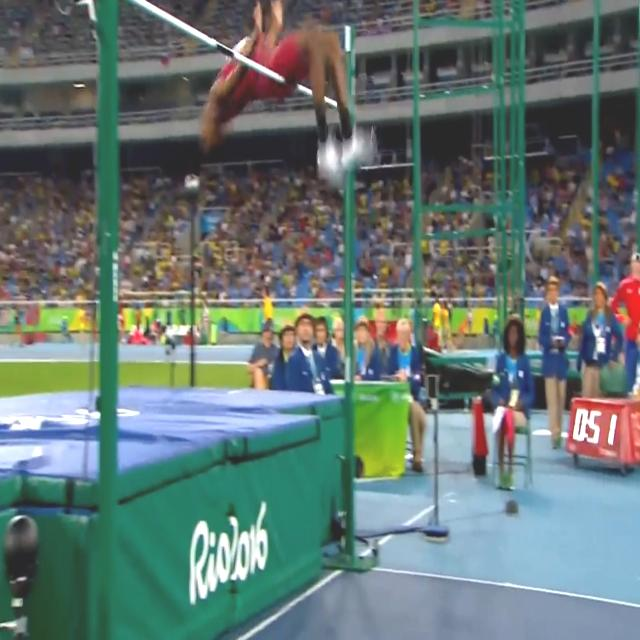jump: (198, 0, 374, 183)
